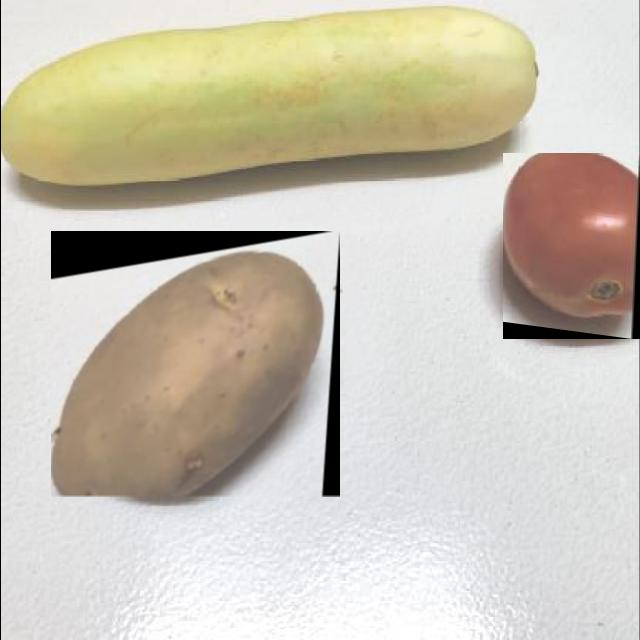onion: (50, 232, 339, 498)
tomato: (502, 153, 640, 339)
